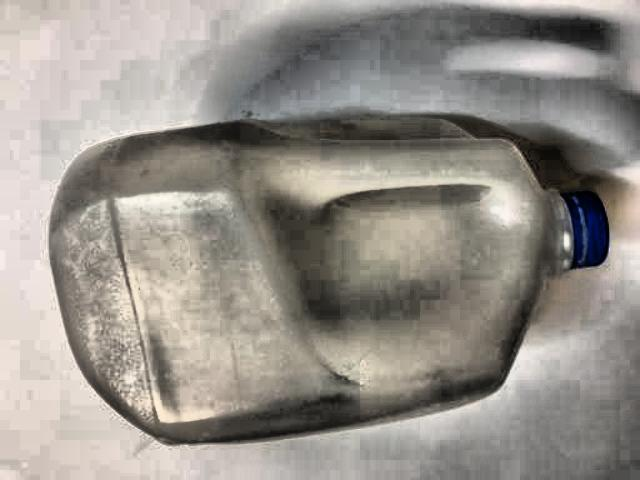Plastic: (30, 106, 640, 467)
